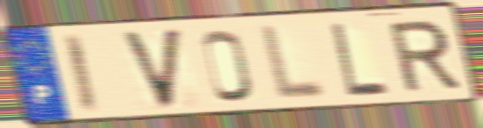0: (200, 28, 255, 105)
I: (60, 32, 102, 116)
L: (259, 22, 330, 104), (327, 20, 392, 98)
R: (384, 17, 464, 94)
V: (118, 26, 185, 112)
